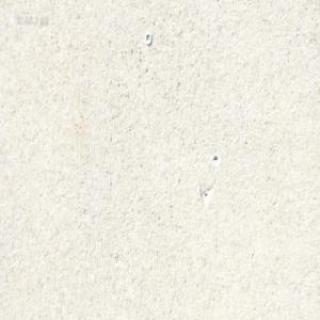Washertrack_idkeyframe: (144, 30, 151, 44)
